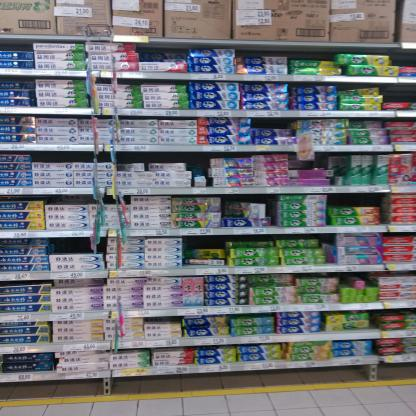Void: (50, 238, 104, 252), (123, 154, 209, 162), (140, 47, 184, 61), (330, 194, 381, 206), (36, 151, 93, 161), (292, 48, 336, 60), (185, 238, 227, 248)
